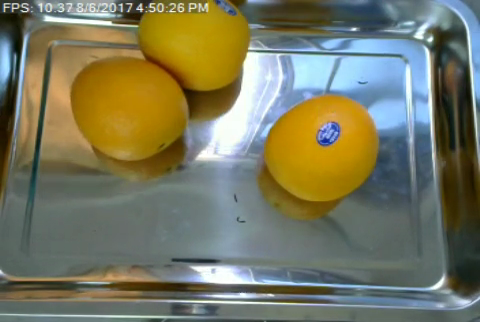Orange: (262, 92, 379, 203), (68, 55, 187, 152), (138, 0, 250, 92)
